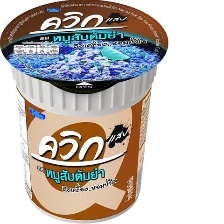paper_cup: (0, 0, 172, 224)
